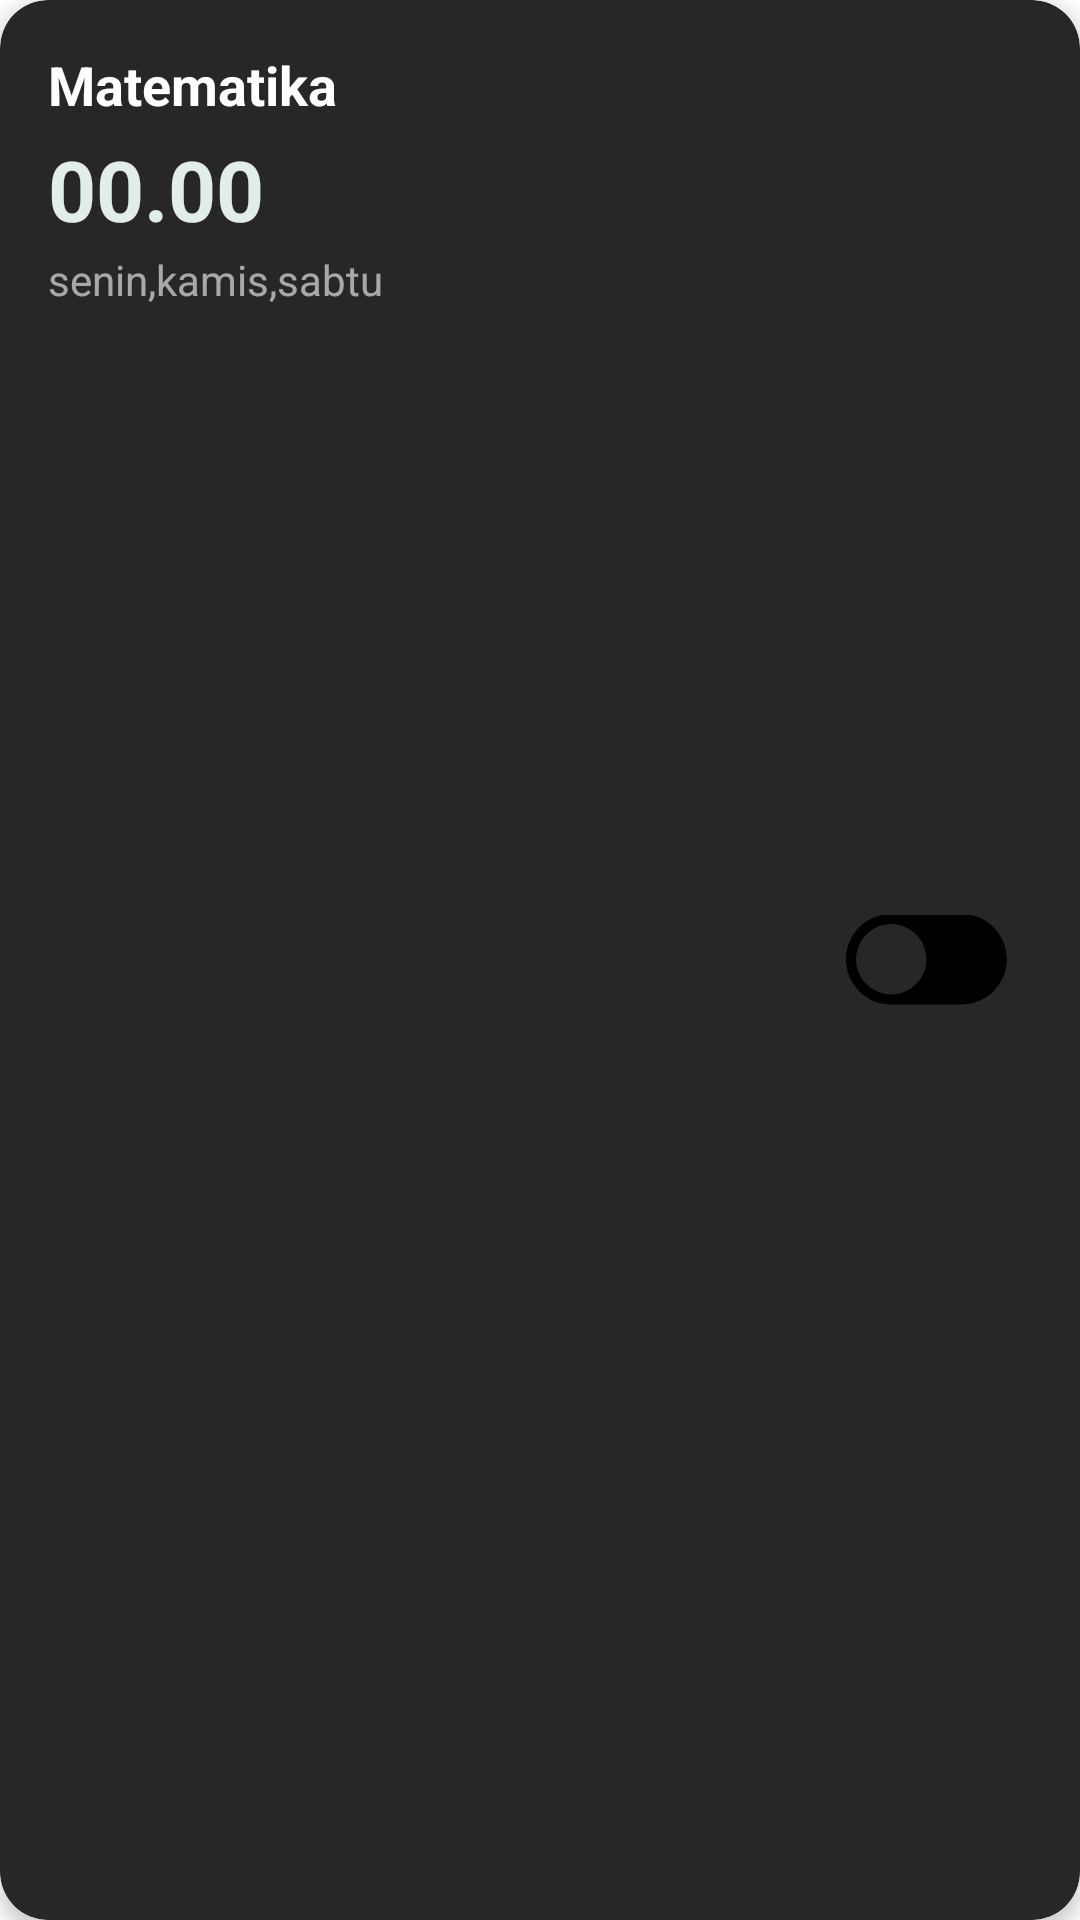

Locate icon controls on the screen. Image size 1080x1920, boxes as [x1, y1, x2, y2].
switch off: [846, 915, 1007, 1004]
